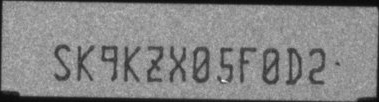0: (191, 46, 210, 83), (261, 46, 279, 85)
2: (307, 46, 326, 85)
5: (216, 45, 233, 84)
9: (99, 44, 118, 81)
D: (284, 47, 303, 85)
F: (239, 45, 257, 84)
K: (76, 44, 95, 83), (122, 43, 140, 82)
S: (52, 42, 71, 81)
X: (168, 45, 187, 82)
Z: (146, 44, 164, 82)
